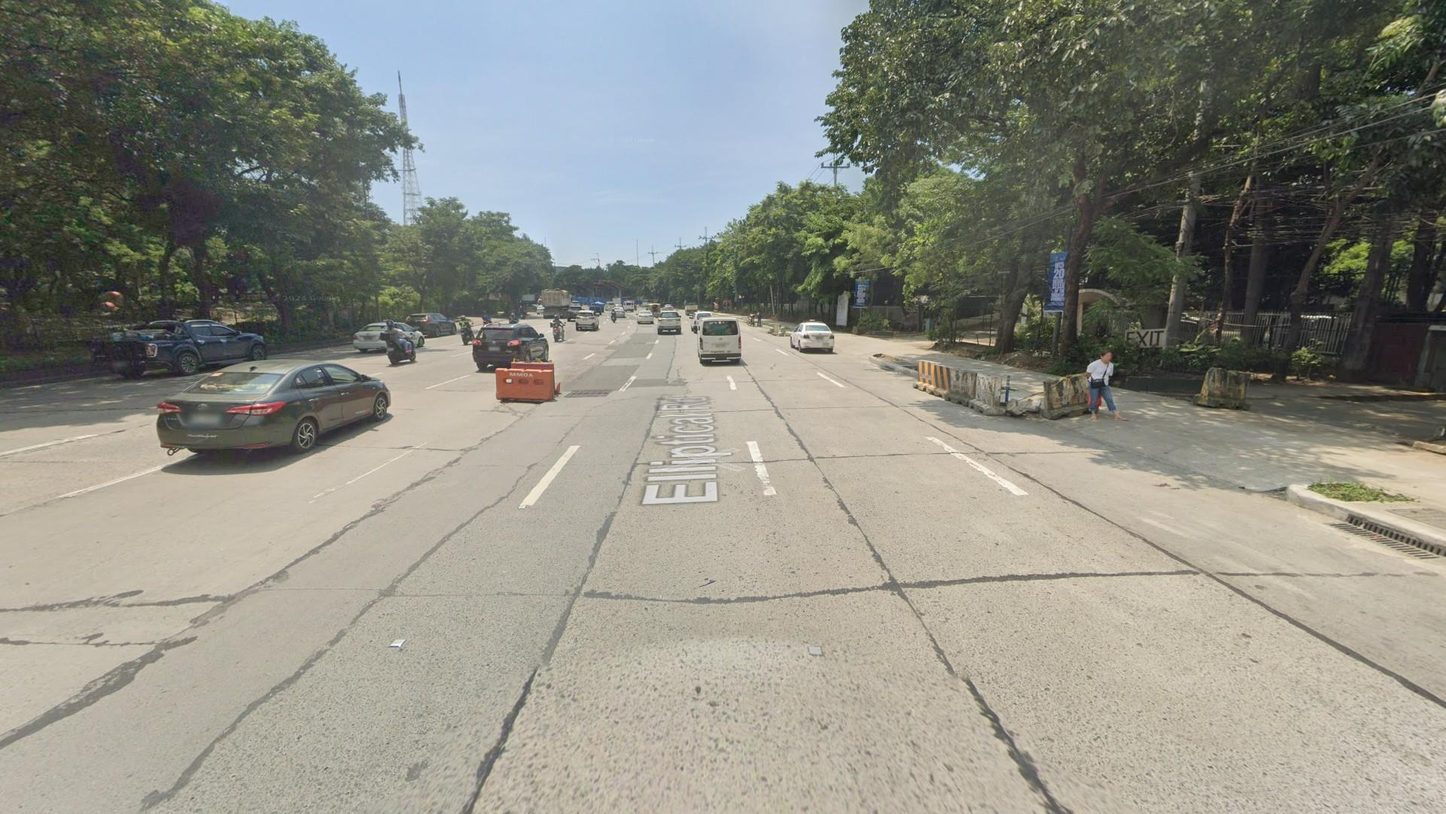pedestrian: (1086, 348, 1129, 423), (756, 312, 762, 327)
